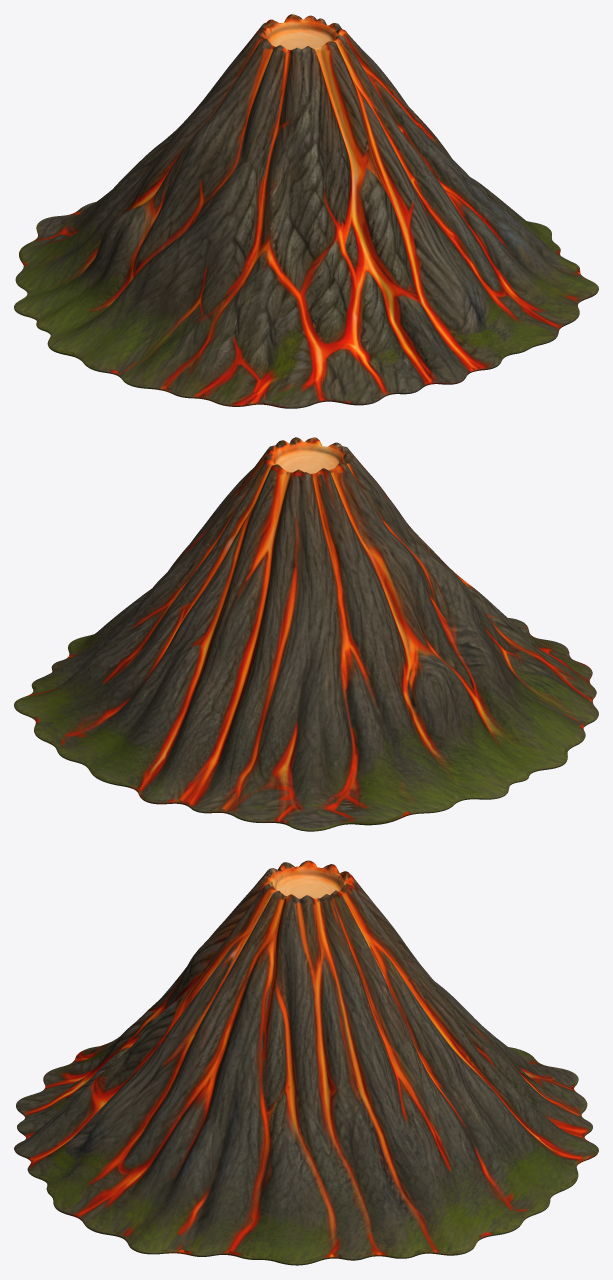
File: volcano_exterior.glb
3 renders of one model, top to bottom at view 1: azimuth 30°, elevation 25°; view 2: azimuth 150°, elevation 25°; view 3: azimuth 270°, elevation 25°, orthographic. The views are drawn at different scales.
Visible parts, largest first — view 1: material; view 2: material; view 3: material.
Part boxes in pixels (bbox=[...]): material: bbox=[14, 14, 598, 408]; material: bbox=[14, 437, 598, 831]; material: bbox=[14, 860, 598, 1265].
Bounding box in the file's own units: 1.03 × 0.5051 × 1.01.
Materials: 1 (1 with a texture image).
